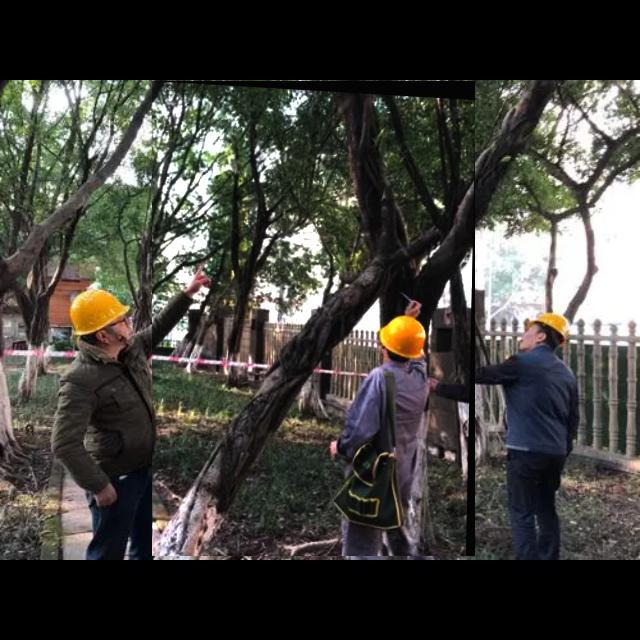fallen_tree: (152, 81, 476, 557)
